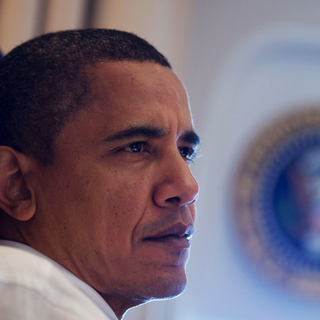eye: (114, 139, 151, 161), (168, 139, 197, 164)
